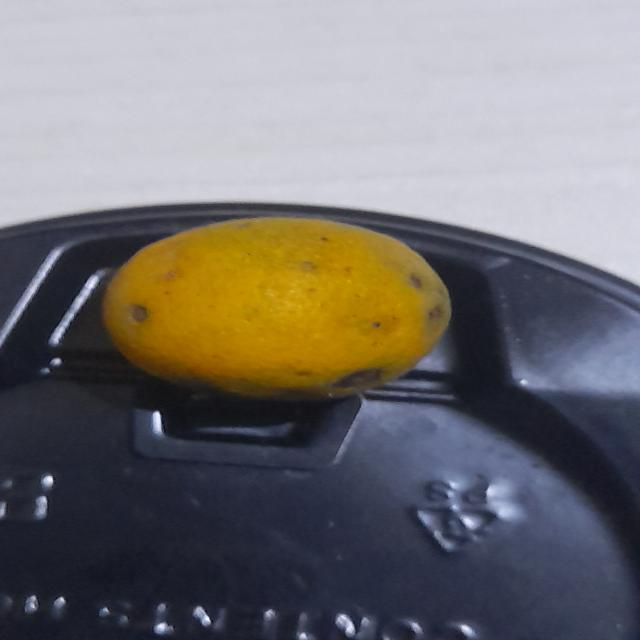black spot: (95, 214, 464, 406)
